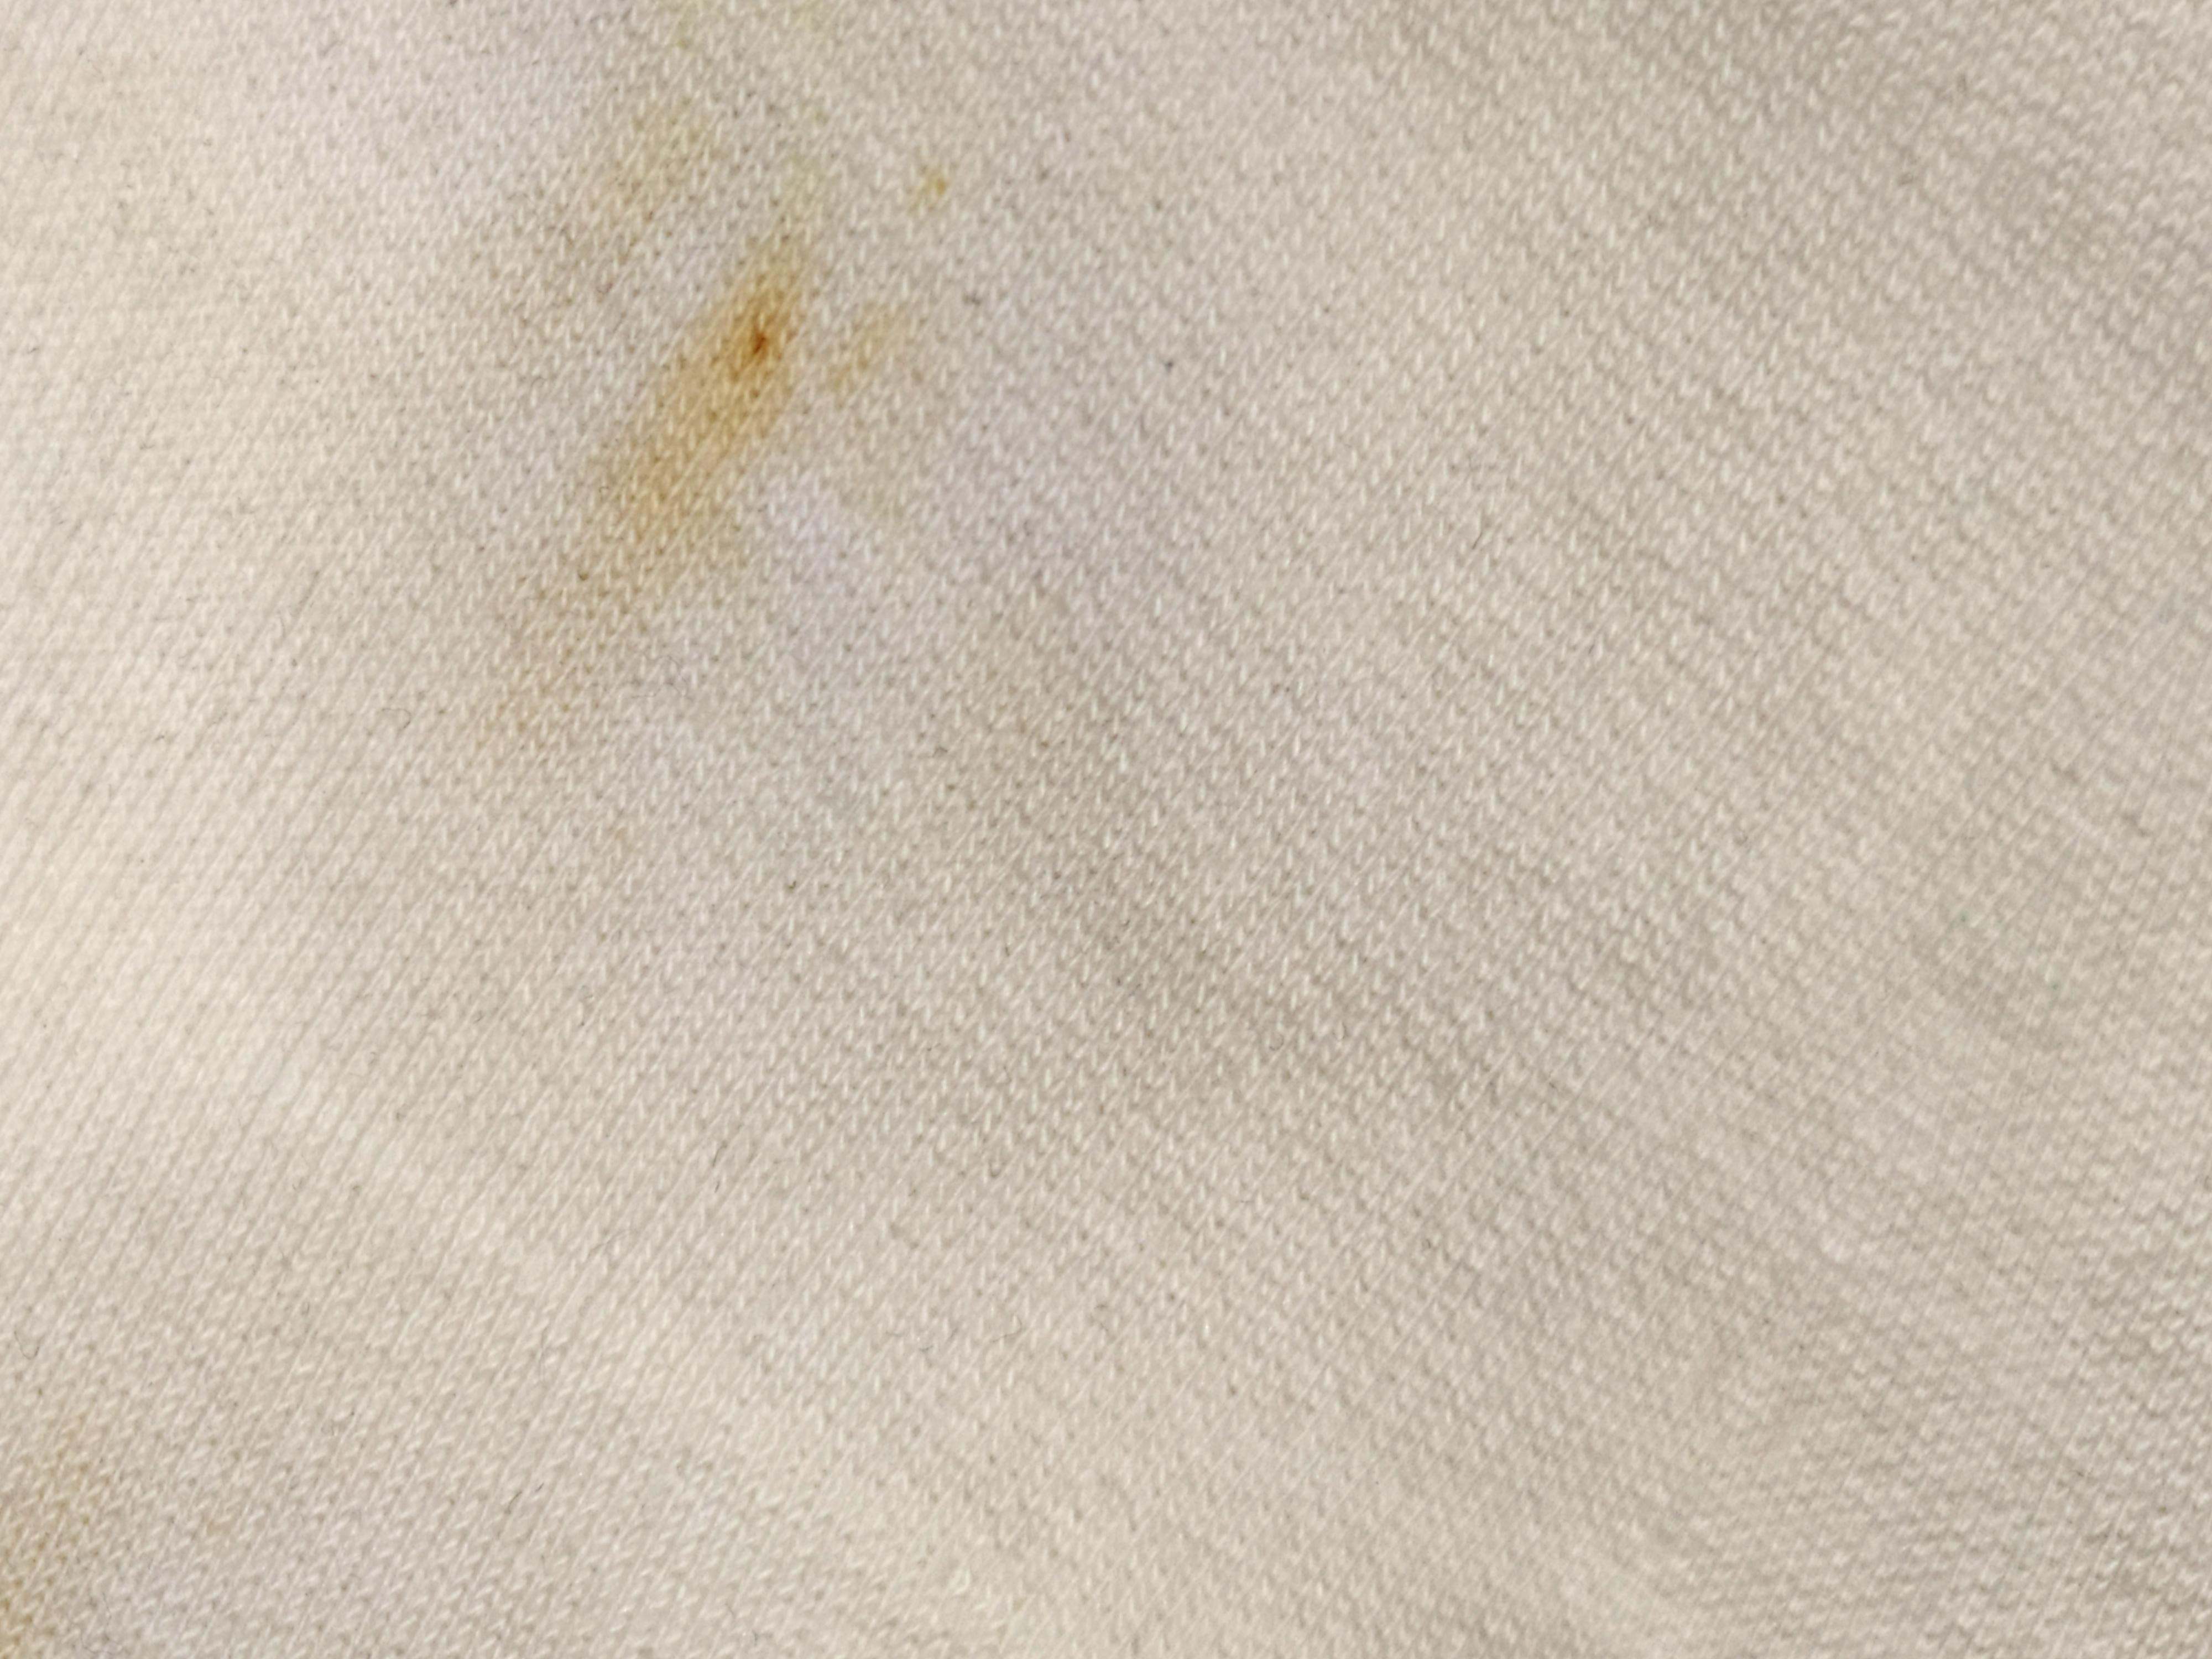stain: (566, 227, 826, 610)
